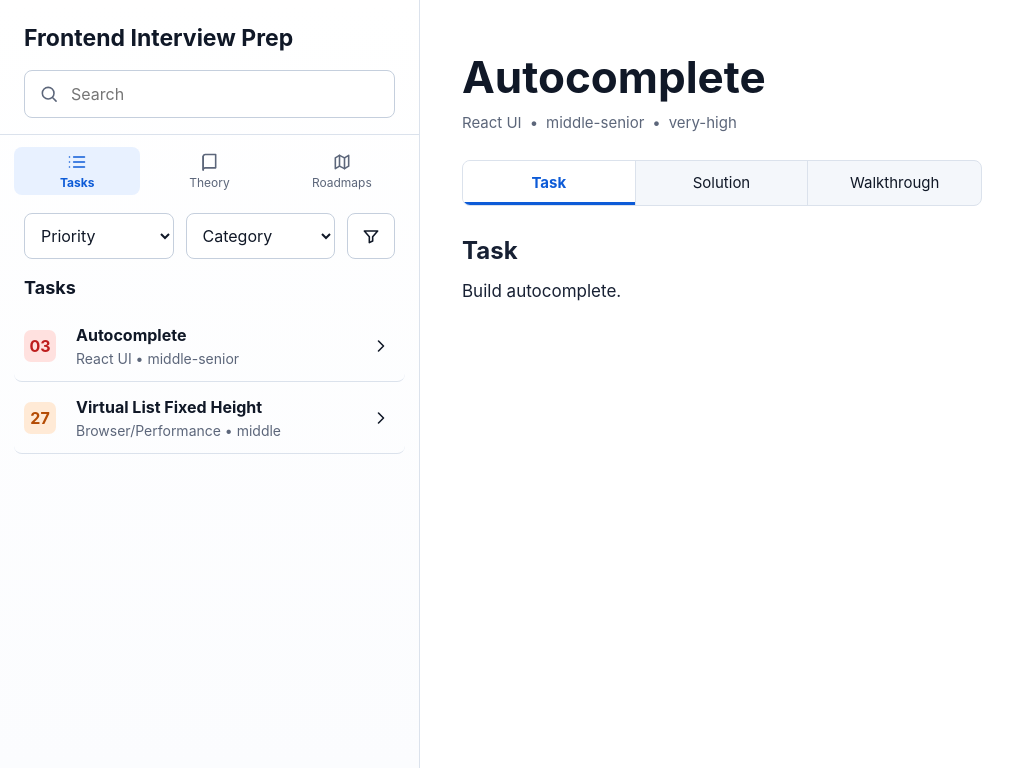
Test case: App › switches between Tasks, Theory, and Roadmaps sections
What coordinates should you click on to do the following:
click the link "Theory"
I would click on:
 (210, 171)
Its box is x1=189 y1=152 x2=230 y2=190.
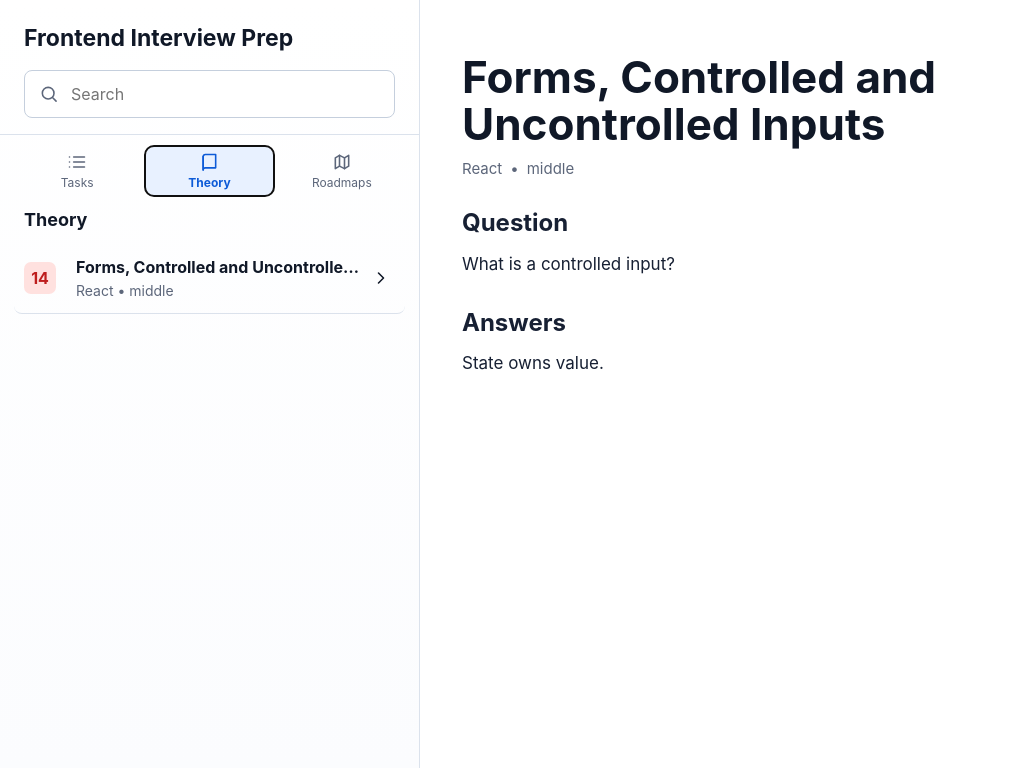
Check: the heading "Forms, Controlled and Uncontrolled Inputs" is shown, box x1=462 y1=54 x2=982 y2=147
What coordinates should you click on to do the following:
click the link "Roadmaps"
I would click on:
 (342, 171)
Its box is x1=312 y1=152 x2=372 y2=190.
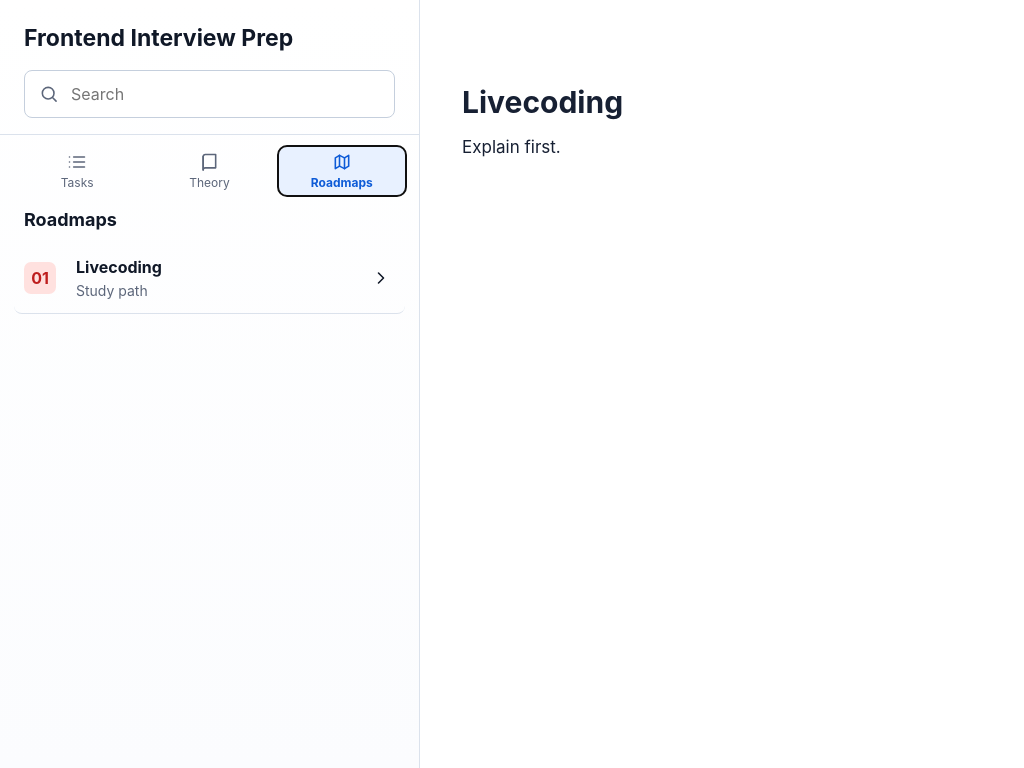
Check: the heading "Livecoding" is shown, box x1=462 y1=84 x2=623 y2=120
